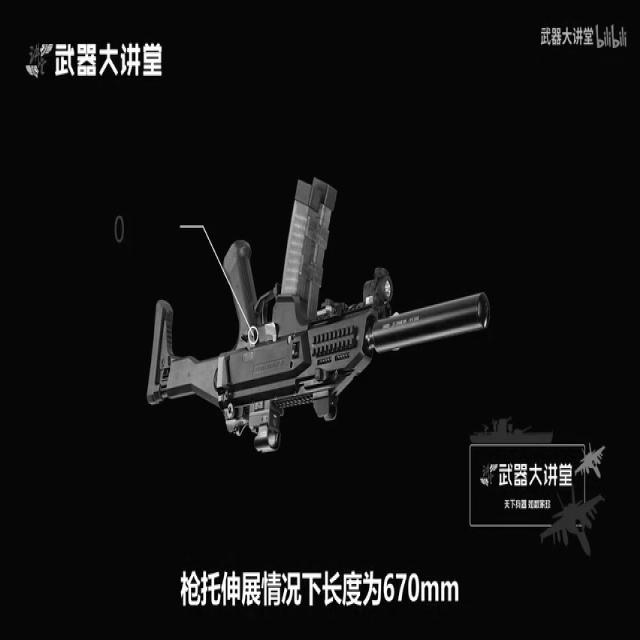Sub-machine-gun: (148, 162, 506, 510)
